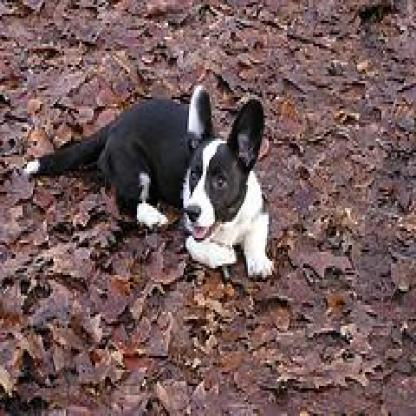Cardigan: (18, 81, 270, 275)
